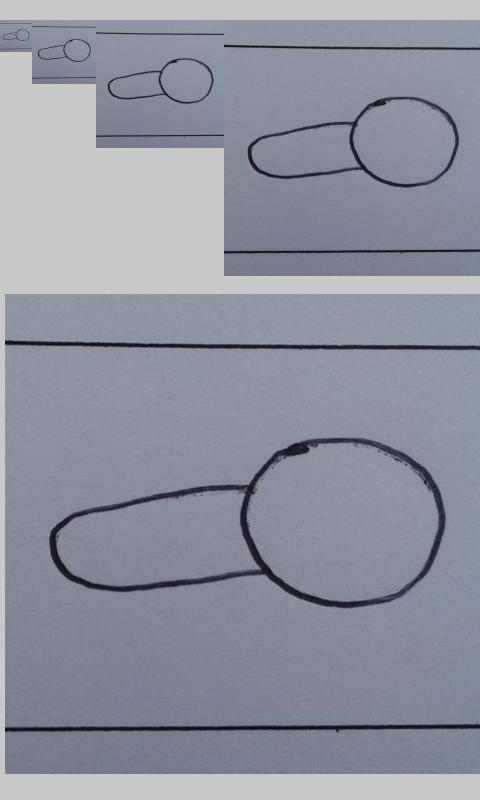switch: (48, 437, 447, 610), (247, 96, 461, 189), (107, 57, 215, 105), (37, 38, 92, 63), (2, 28, 30, 41)
